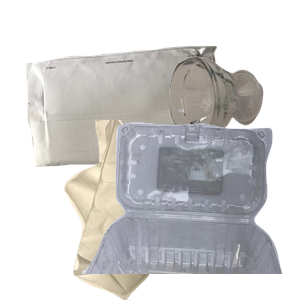glass: (166, 54, 300, 189)
paper: (24, 43, 242, 202)
plastic: (80, 120, 300, 300)
trash: (62, 120, 251, 300)
